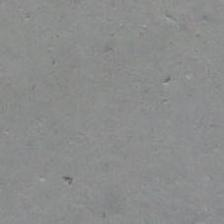Non_Crack: (29, 12, 224, 192)
